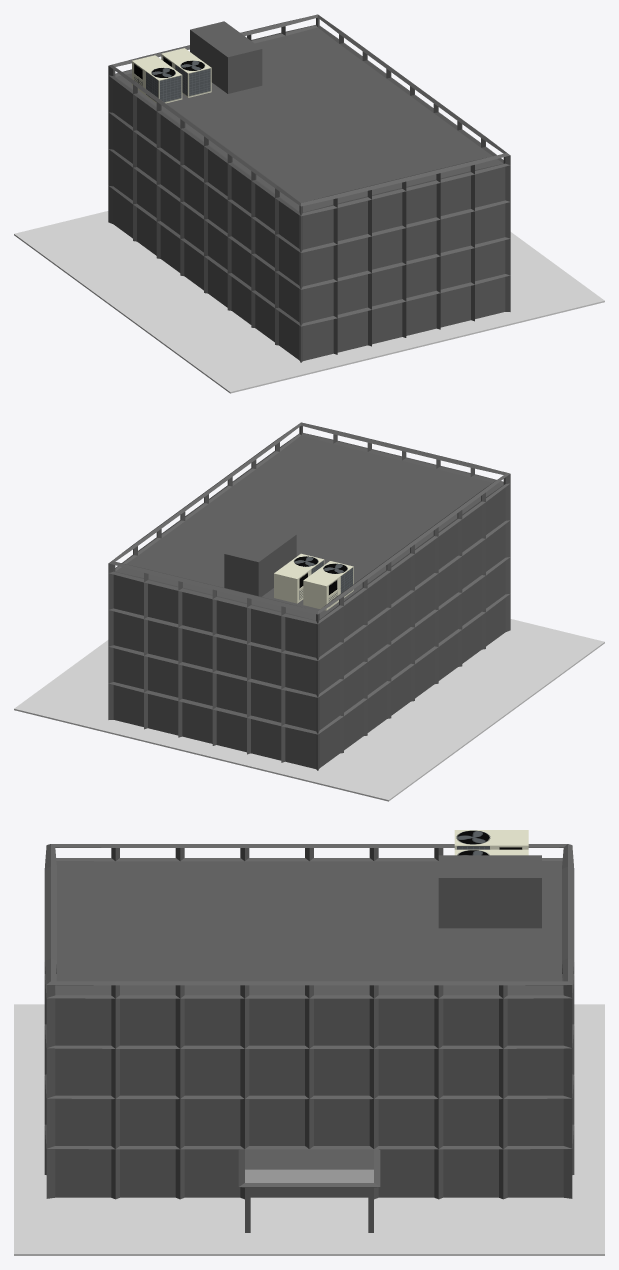
Rendered from Appartment_Unfinished.fbx.
3 views of the same model, one above another, from view 1: azimuth 30°, elevation 25°; view 2: azimuth 150°, elevation 25°; view 3: azimuth 270°, elevation 25° (orthographic). The views are drawn at different scales.
Parts seen in each view (by area): view 1: Appartment, Plot, Appartment Wireframe, AC Unit, AC Unit.001; view 2: Appartment, Plot, Appartment Wireframe, AC Unit, AC Unit.001; view 3: Appartment, Plot, Appartment Wireframe, Awning, Awning.001, AC Unit.
Boxes of the visible parts, x1,y1,x2,y2 form: Appartment: [113, 21, 505, 360]; Plot: [14, 211, 604, 393]; Appartment Wireframe: [108, 14, 510, 362]; AC Unit: [132, 55, 182, 103]; AC Unit.001: [161, 48, 211, 97]; Appartment: [113, 435, 505, 768]; Plot: [14, 619, 604, 801]; Appartment Wireframe: [108, 422, 510, 770]; AC Unit: [303, 561, 353, 610]; AC Unit.001: [274, 553, 324, 603]; Appartment: [55, 855, 563, 1197]; Plot: [14, 1004, 604, 1255]; Appartment Wireframe: [44, 844, 574, 1199]; Awning: [238, 1149, 380, 1187]; Awning.001: [245, 1169, 373, 1182]; AC Unit: [454, 830, 528, 849].
Bounding box in the file's own units: 4000 × 1993 × 4000.
3 materials, 1 textured.
